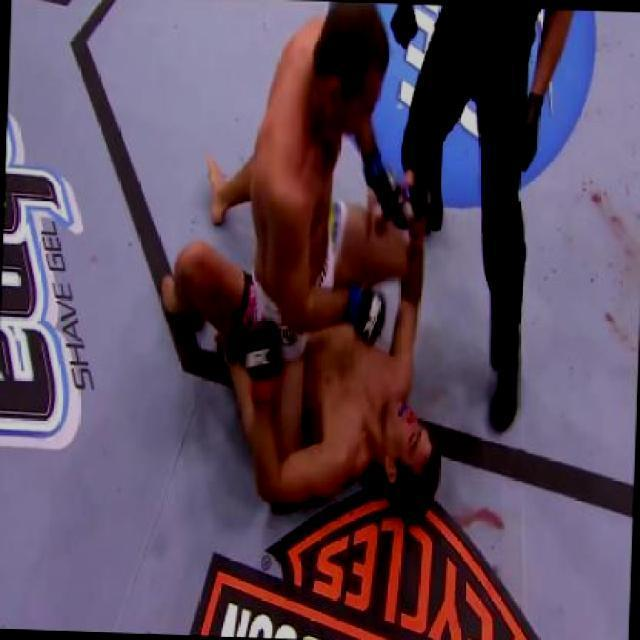fight: (156, 0, 458, 526)
